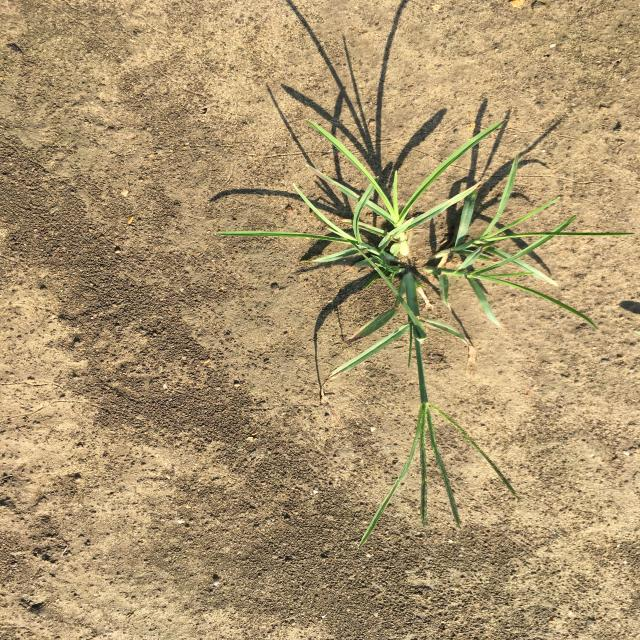Goosegrass: (212, 118, 636, 550)
